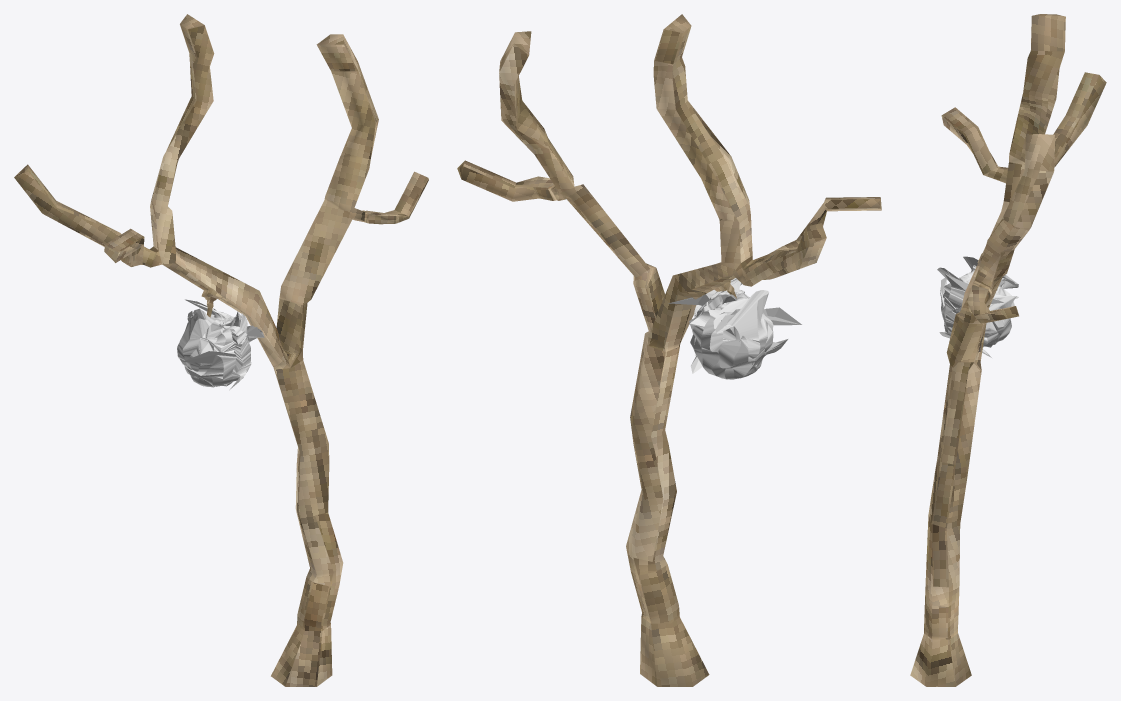
The model's file is tree1.glb.
3 views of the same model, side by side, from view 1: azimuth 30°, elevation 25°; view 2: azimuth 150°, elevation 25°; view 3: azimuth 270°, elevation 25° (orthographic). The views are drawn at different scales.
Parts seen in each view (by area): view 1: Cube, Sphere; view 2: Cube, Sphere; view 3: Cube, Sphere.
Part boxes in pixels (<box>): Cube: <box>14,14,428,686</box>; Sphere: <box>177,299,264,389</box>; Cube: <box>457,14,881,686</box>; Sphere: <box>668,278,801,379</box>; Cube: <box>910,14,1106,686</box>; Sphere: <box>937,256,1018,357</box>.
Size of the model in its own units: 15.78 by 25.61 by 7.19.
Materials: 1 (1 with a texture image).
